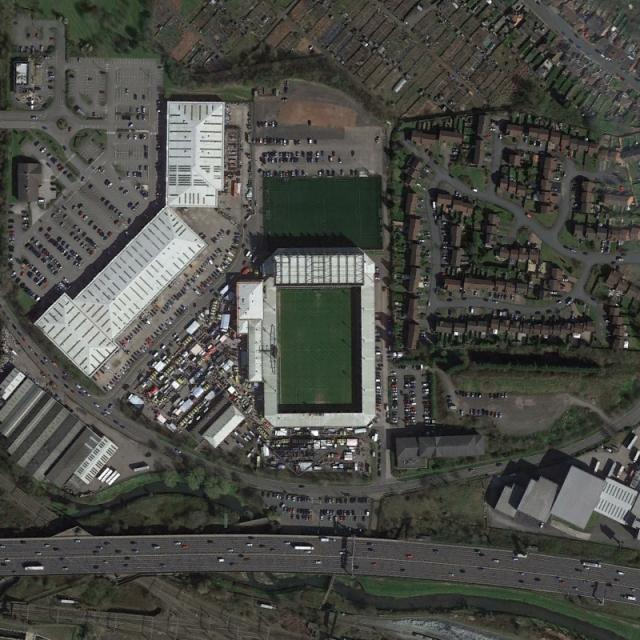vehicle: (25, 566, 46, 572), (582, 562, 602, 568), (294, 546, 314, 550), (627, 595, 637, 601), (518, 553, 527, 558), (319, 538, 330, 542), (518, 571, 526, 576), (617, 570, 625, 575), (153, 545, 161, 549), (338, 551, 346, 555), (227, 549, 234, 553), (558, 580, 565, 584), (246, 543, 254, 546), (493, 558, 499, 562), (174, 542, 181, 545), (555, 576, 562, 579)
